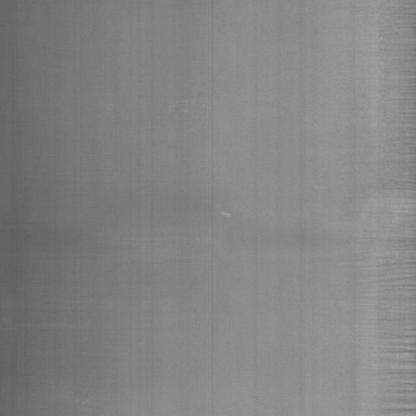waist_folding: (356, 25, 416, 398)
